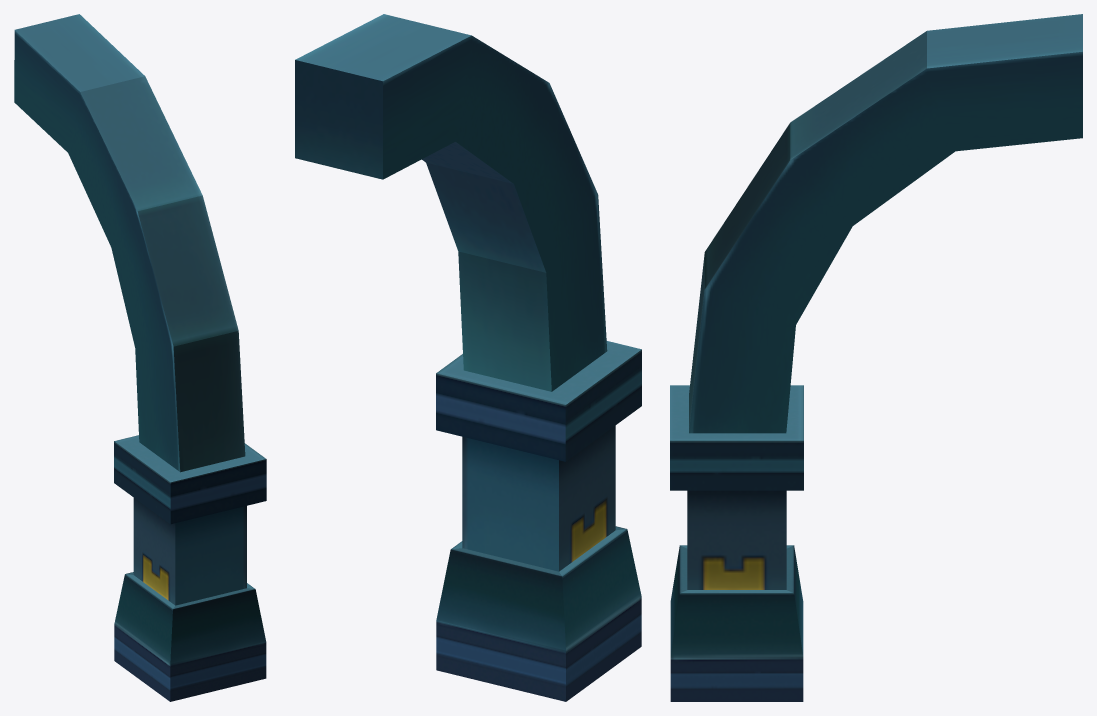
File: GongMen.fbx
3 views of the same model, side by side, from view 1: azimuth 30°, elevation 25°; view 2: azimuth 150°, elevation 25°; view 3: azimuth 270°, elevation 25° (orthographic). The views are drawn at different scales.
Parts seen in each view (by area): view 1: GongMen; view 2: GongMen; view 3: GongMen.
Boxes of the visible parts, x1=… form: GongMen: x1=14, y1=14, x2=266, y2=701; GongMen: x1=295, y1=14, x2=641, y2=701; GongMen: x1=670, y1=14, x2=1082, y2=701.
Size of the model in its own units: 0.1471 by 0.7919 by 0.4611.
1 material, 1 textured.
